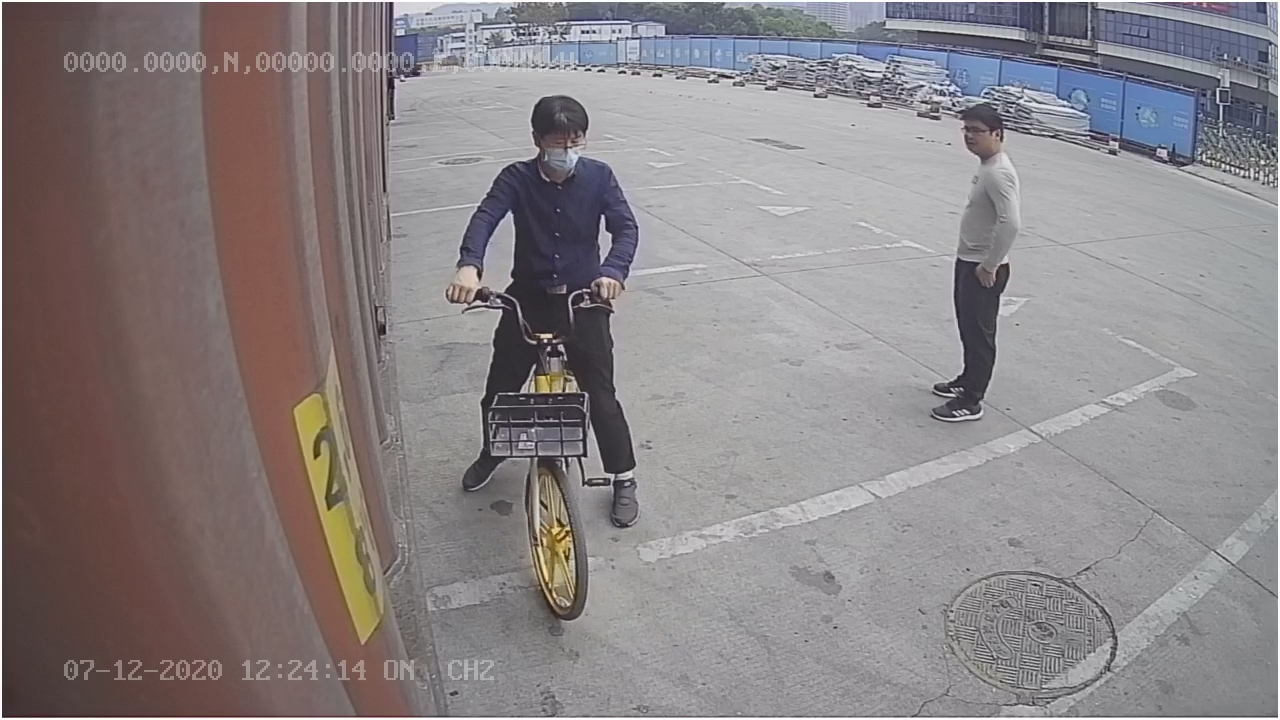person: (925, 101, 1025, 423)
